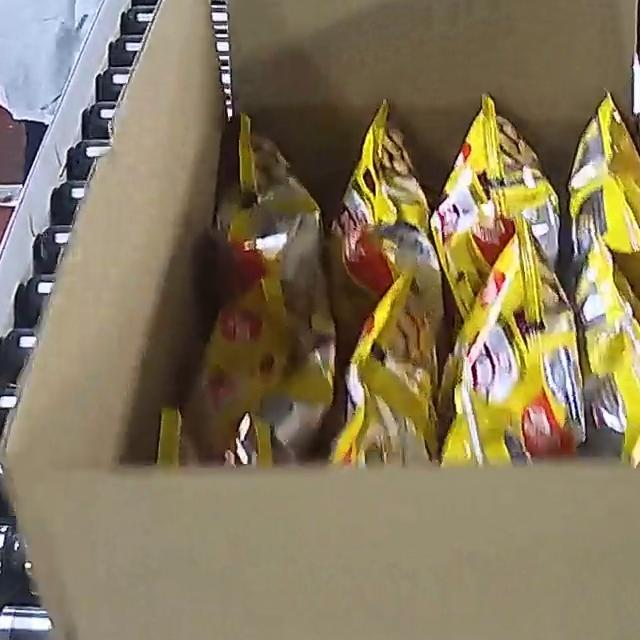salted: (171, 89, 640, 469)
